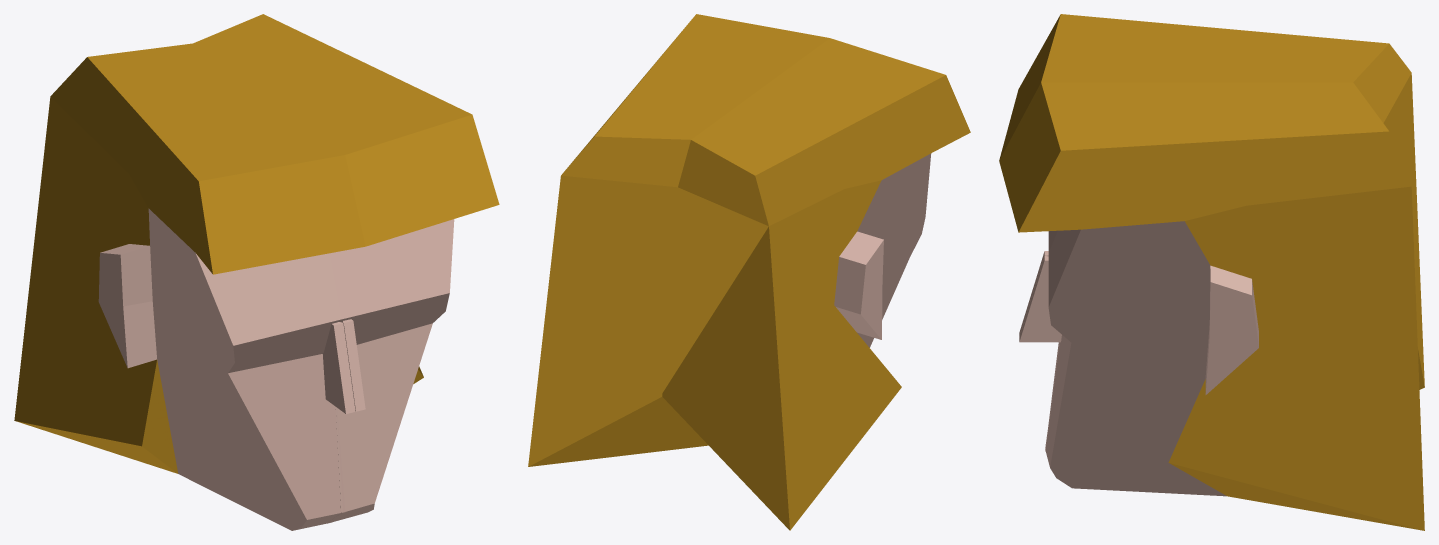
The model's file is head3.gltf.
3 renders of one model, left to right at view 1: azimuth 30°, elevation 25°; view 2: azimuth 150°, elevation 25°; view 3: azimuth 270°, elevation 25°, orthographic. The views are drawn at different scales.
Visible parts, largest first — view 1: Cube.001; view 2: Cube.001; view 3: Cube.001.
Part boxes in pixels (x1,y1,x2,y2): Cube.001: (14,14,499,530); Cube.001: (528,14,970,530); Cube.001: (999,14,1424,530).
Bounding box in the file's own units: 0.1401 × 0.1773 × 0.1758.
